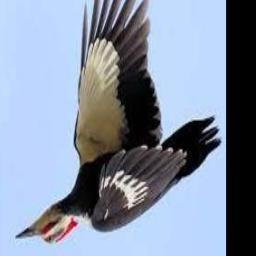Woodpecker: (14, 0, 222, 245)
